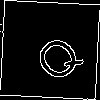Q: (25, 25, 87, 87)
